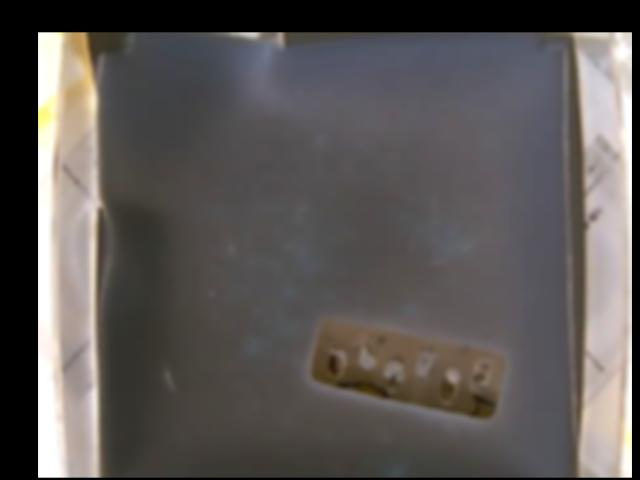Medicine: (309, 318, 512, 412)
